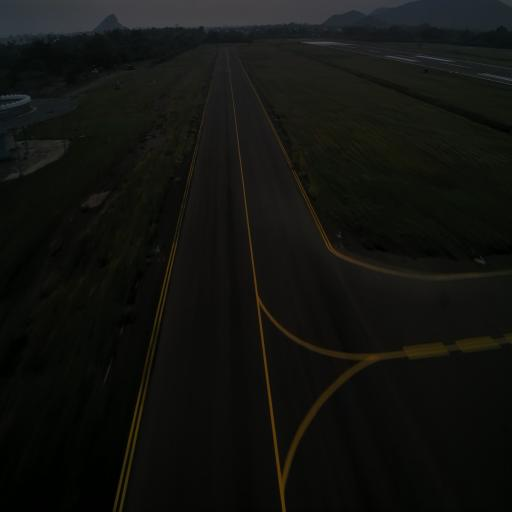on: (479, 254, 485, 266), (337, 228, 342, 240), (156, 243, 160, 255)
